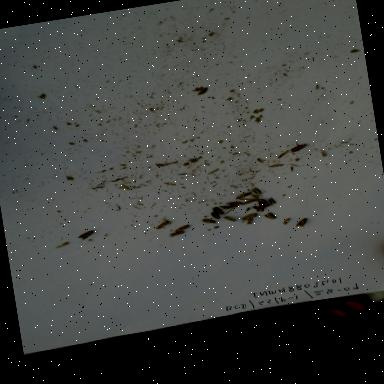pbw: (72, 228, 97, 242), (285, 141, 310, 155), (172, 222, 193, 234), (152, 218, 172, 230), (292, 216, 309, 230), (262, 210, 278, 222), (168, 229, 186, 238), (222, 214, 238, 224), (202, 214, 216, 225), (250, 204, 265, 214), (318, 146, 330, 158), (259, 198, 271, 210), (208, 210, 222, 220), (210, 206, 224, 216), (238, 198, 255, 206), (274, 150, 289, 159), (266, 195, 278, 206), (243, 216, 256, 226), (118, 182, 131, 192), (234, 192, 250, 200), (242, 212, 258, 220), (218, 204, 234, 212), (250, 186, 262, 196), (280, 216, 292, 226), (226, 200, 242, 207), (226, 201, 240, 209), (268, 162, 286, 168), (256, 200, 266, 210), (250, 191, 260, 200), (206, 168, 220, 174), (256, 156, 265, 164)
